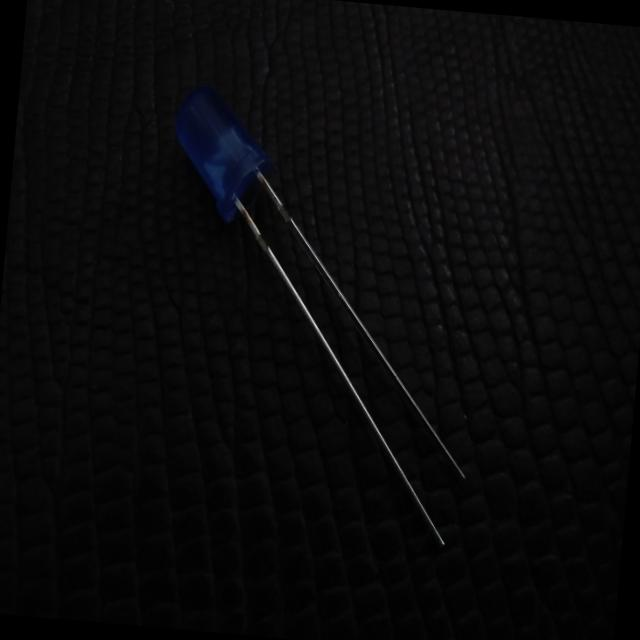blue_led: (164, 80, 280, 228)
